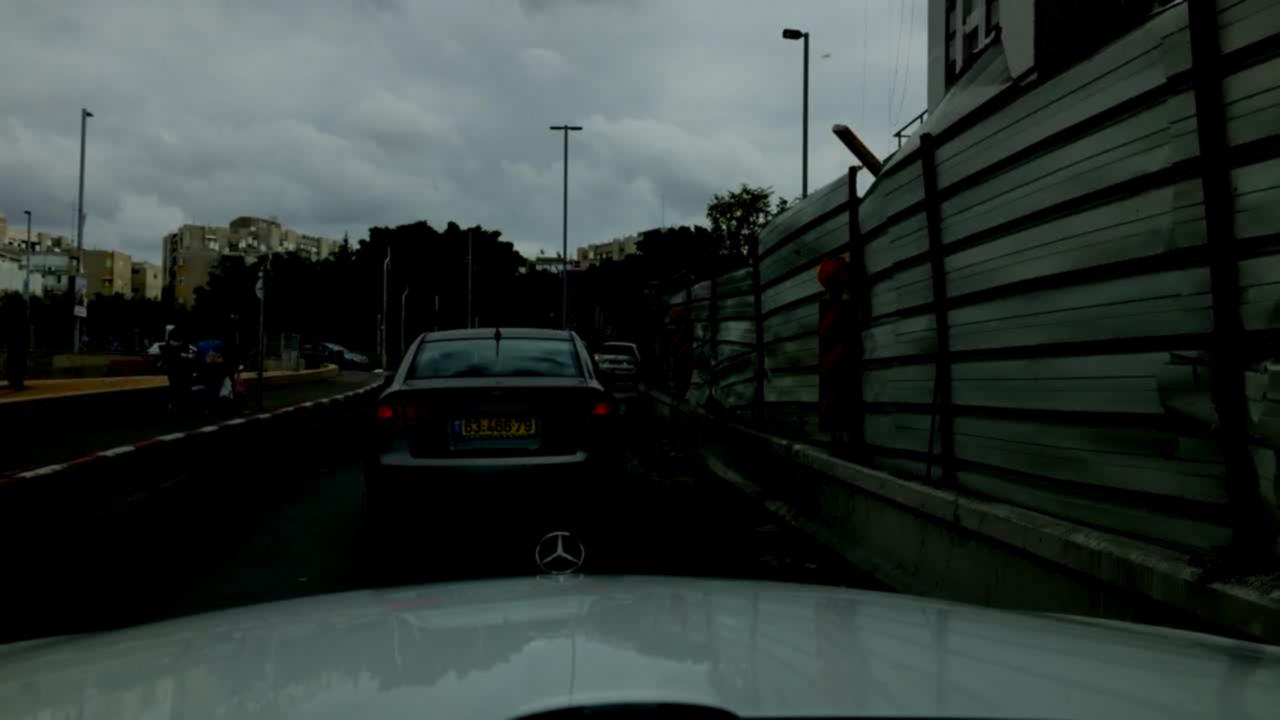Mercedes: (517, 502, 605, 601)
kia: (482, 389, 502, 405)
